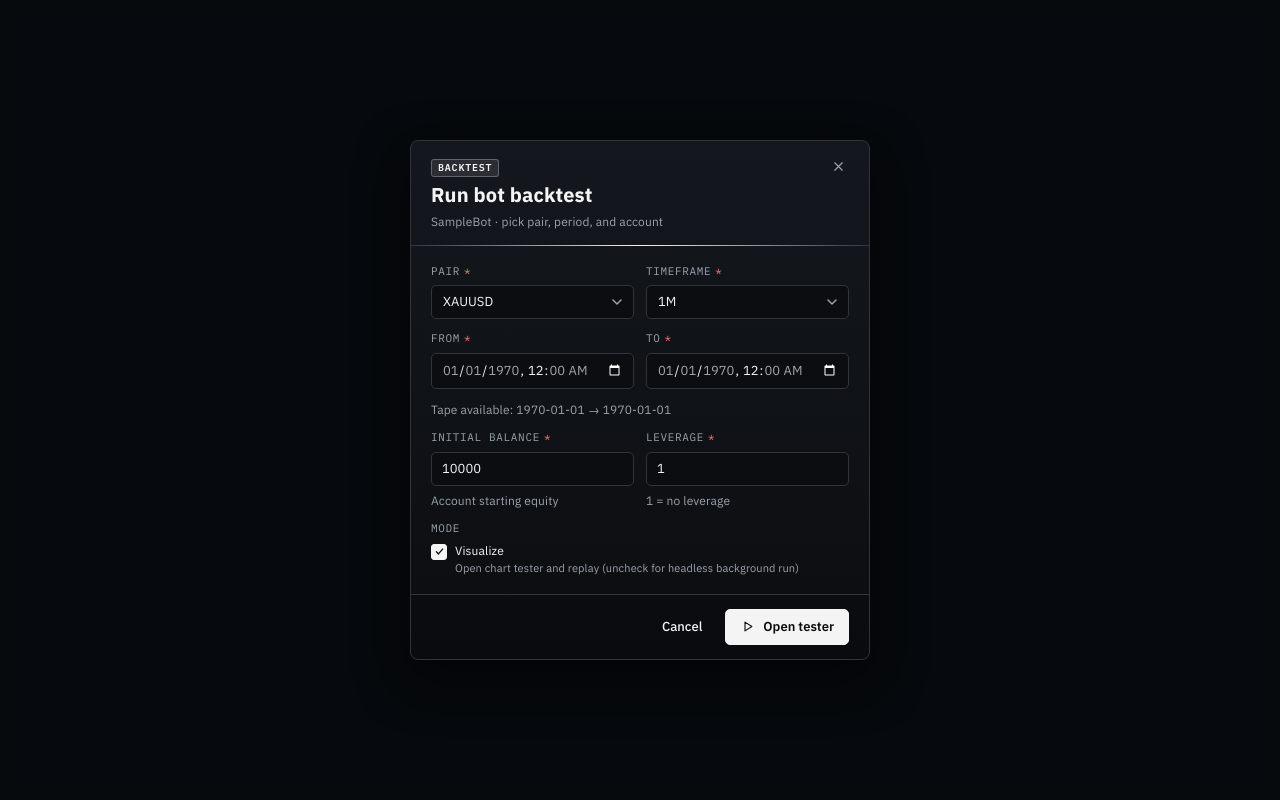
Test: Milestone 4: Panels, Desks, Buttons & Forms Unification › Task 2: Form Controls & Checkbox UI (R4) › uses Checkbox in BotBacktestModal for visualize replay
Check: the button "Open tester" is shown, box x1=725 y1=609 x2=849 y2=645
Uncheck visualize
Click the checkbox named "visualize": (446, 529) x1=431 y1=521 x2=460 y2=537
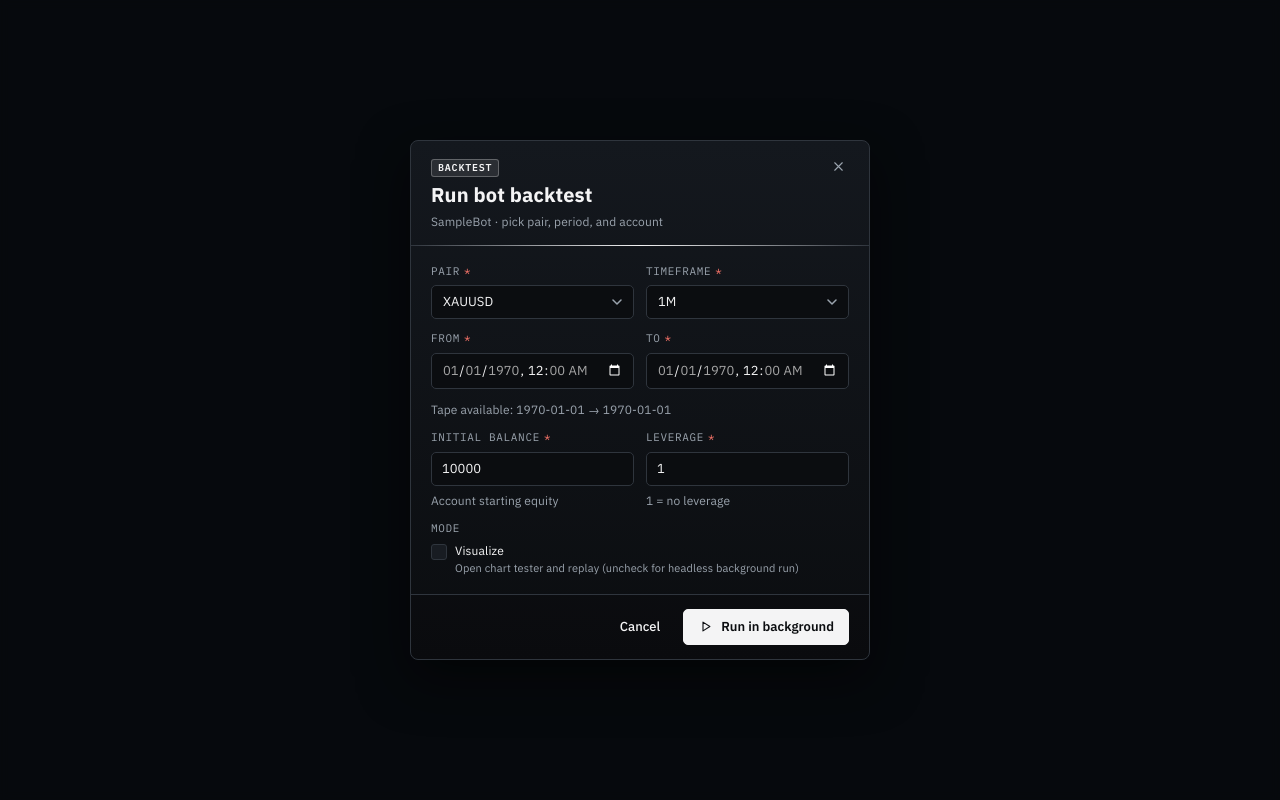
Check: the button "Run in background" is shown, box x1=683 y1=609 x2=849 y2=645
